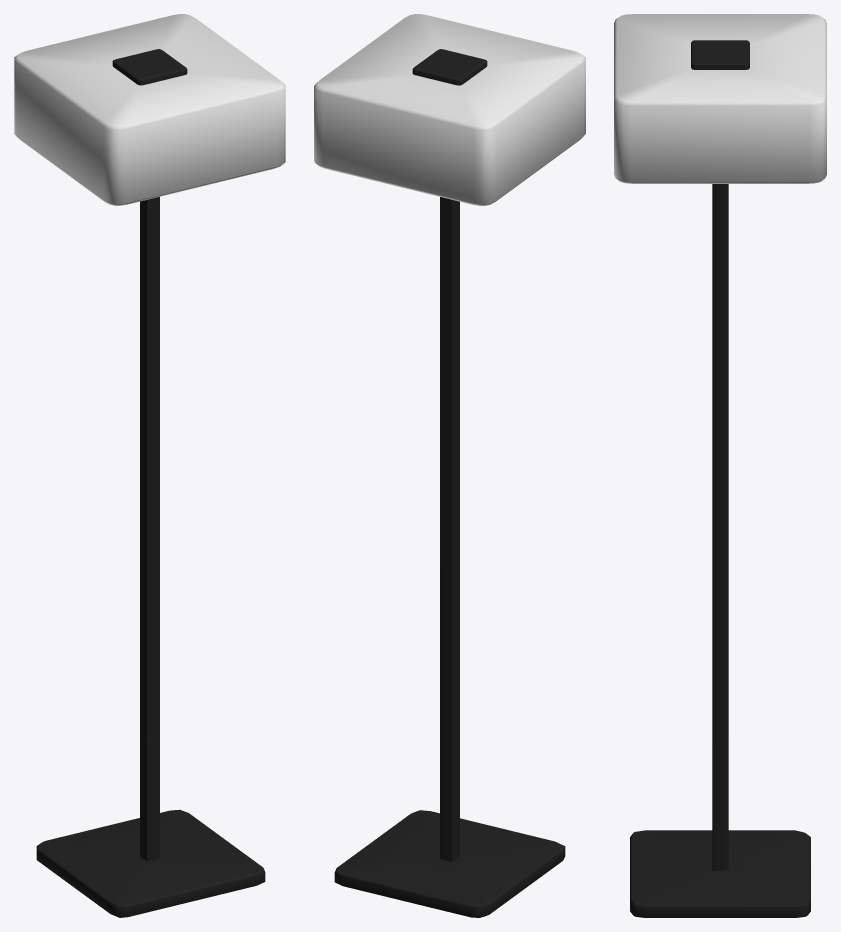
Rendered from Standing_Lamp.fbx.
The picture shows the model from 3 angles, left to right: view 1: azimuth 30°, elevation 25°; view 2: azimuth 150°, elevation 25°; view 3: azimuth 270°, elevation 25°; orthographic projection. The views are drawn at different scales.
Visible parts, largest first — view 1: Light_Bulb_On, Light_Lamp_Pole; view 2: Light_Bulb_On, Light_Lamp_Pole; view 3: Light_Bulb_On, Light_Lamp_Pole.
Part boxes in pixels (bbox=[...]): Light_Bulb_On: bbox=[14, 14, 285, 205]; Light_Lamp_Pole: bbox=[36, 49, 265, 917]; Light_Bulb_On: bbox=[314, 14, 585, 205]; Light_Lamp_Pole: bbox=[334, 49, 565, 917]; Light_Bulb_On: bbox=[614, 14, 826, 183]; Light_Lamp_Pole: bbox=[630, 40, 810, 917].
Size of the model in its own units: 0.32 by 1.38 by 0.32.
